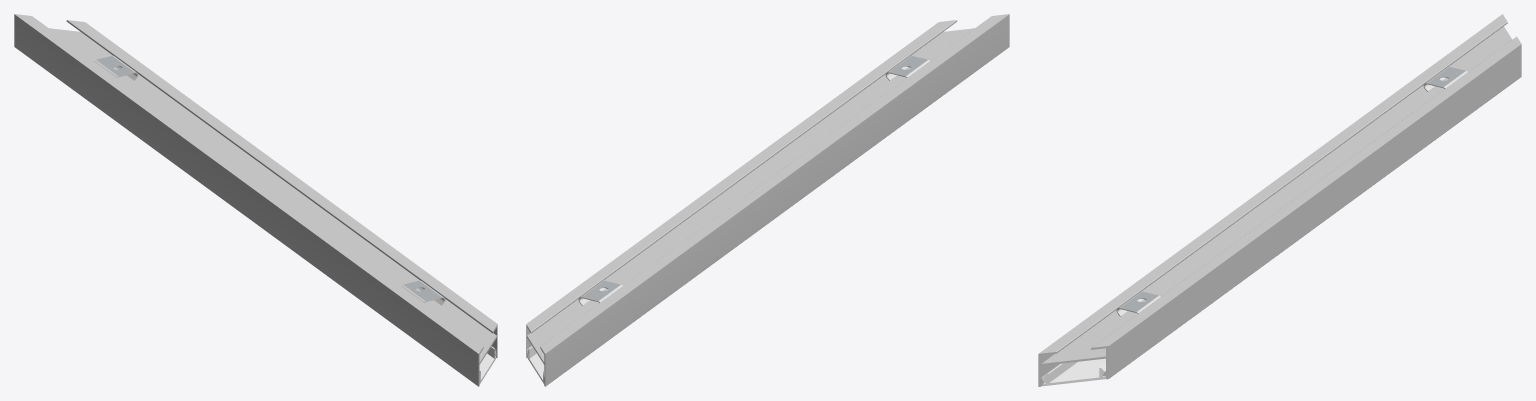
Rendered from Fit25Plafon-corte-45.glb.
The picture shows the model from 3 angles, left to right: view 1: azimuth 30°, elevation 25°; view 2: azimuth 150°, elevation 25°; view 3: azimuth 330°, elevation 25°; orthographic projection.
Visible parts, largest first — view 1: 3DGeom-1; view 2: 3DGeom-1; view 3: 3DGeom-1, 3DGeom-2.
Part boxes in pixels (<box>): 3DGeom-1: <box>14,14,497,386</box>; 3DGeom-1: <box>526,14,1009,386</box>; 3DGeom-1: <box>1038,14,1521,386</box>; 3DGeom-2: <box>1042,358,1105,386</box>.
Bounding box in the file's own units: 0.0274 × 0.0193 × 0.49.
3 materials, 1 textured.
